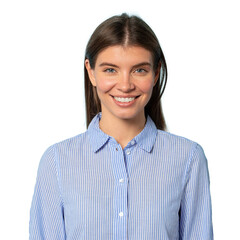teen: (73, 13, 173, 130)
